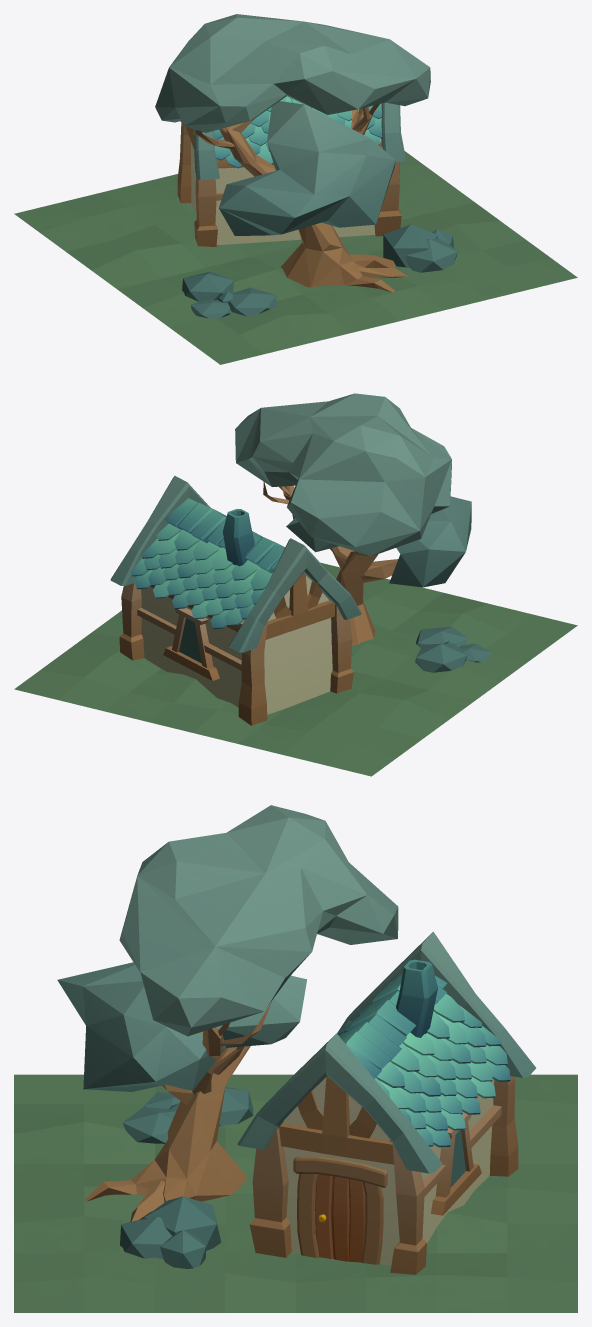
File: house_dry.gltf
3 renders of one model, top to bottom at view 1: azimuth 30°, elevation 25°; view 2: azimuth 150°, elevation 25°; view 3: azimuth 270°, elevation 25°, orthographic. The views are drawn at different scales.
Parts seen in each view (by area): view 1: Arbol1.002, Plane.000, Icosphere.002, Icosphere.001, Cube.000, Circle.004, Circle.003, Cube.024, Cube.001, Cube.002, Cube.010; view 2: Plane.000, Arbol1.002, Circle.003, Cube.000, Cube.002, Cube.025, Cube.006, Icosphere.002, Cube.001, Cube.004, Cube.010, Cube.009 (+1 smaller); view 3: Plane.000, Arbol1.002, Circle.003, Cube.001, Cube.000, Cube.008, Cube.020, Cube.002, Cube.024, Cube.006, Icosphere.001, Cube.025 (+8 smaller).
Boxes of the visible parts, bbox=[...] form: Arbol1.002: bbox=[155, 14, 430, 292]; Plane.000: bbox=[14, 151, 577, 364]; Icosphere.002: bbox=[182, 271, 276, 318]; Icosphere.001: bbox=[383, 224, 457, 272]; Cube.000: bbox=[191, 139, 381, 244]; Circle.004: bbox=[214, 96, 382, 168]; Circle.003: bbox=[194, 174, 217, 246]; Cube.024: bbox=[374, 146, 401, 236]; Cube.001: bbox=[381, 102, 406, 162]; Cube.002: bbox=[180, 121, 219, 180]; Cube.010: bbox=[177, 121, 191, 203]; Plane.000: bbox=[14, 562, 577, 776]; Arbol1.002: bbox=[235, 393, 471, 645]; Circle.003: bbox=[131, 523, 353, 693]; Cube.000: bbox=[141, 576, 332, 714]; Cube.002: bbox=[228, 538, 361, 652]; Cube.025: bbox=[137, 608, 241, 680]; Cube.006: bbox=[165, 498, 284, 573]; Icosphere.002: bbox=[415, 626, 491, 672]; Cube.001: bbox=[110, 476, 210, 585]; Cube.004: bbox=[265, 572, 334, 639]; Cube.010: bbox=[238, 621, 267, 725]; Cube.009: bbox=[119, 583, 144, 660]; Plane.000: bbox=[14, 1074, 577, 1312]; Arbol1.002: bbox=[57, 805, 398, 1221]; Circle.003: bbox=[374, 993, 510, 1147]; Cube.001: bbox=[237, 1033, 442, 1173]; Cube.000: bbox=[282, 1077, 494, 1265]; Cube.008: bbox=[279, 1076, 393, 1164]; Cube.020: bbox=[293, 1156, 387, 1264]; Cube.002: bbox=[337, 931, 535, 1077]; Cube.024: bbox=[249, 1127, 291, 1257]; Cube.006: bbox=[339, 974, 447, 1078]; Icosphere.001: bbox=[120, 1196, 221, 1258]; Cube.025: bbox=[423, 1105, 501, 1215].
Size of the model in its own units: 10 by 6.7 by 10.
3 materials, 3 textured.
